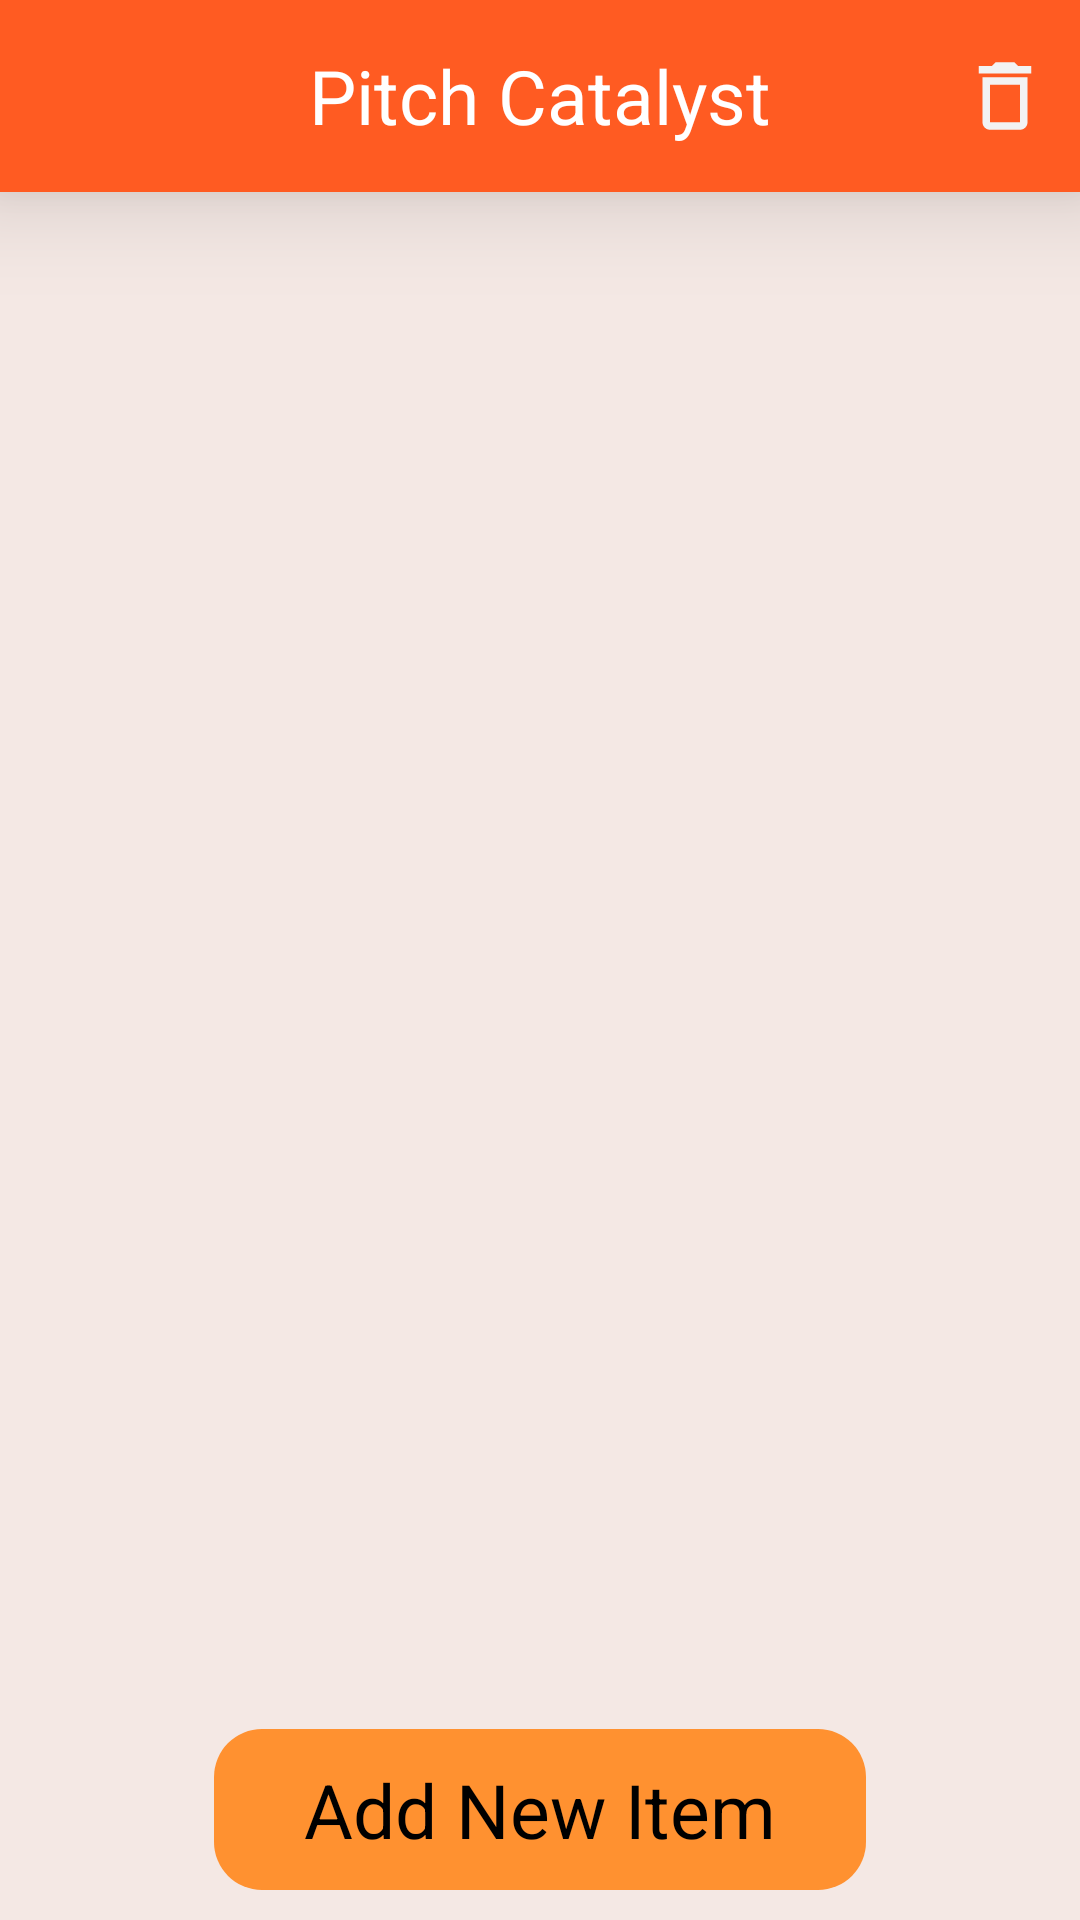

Where icons sit on this 1080px×1920px app screen, as (x1, y1, x2, y2):
delete: (978, 62, 1032, 130)
